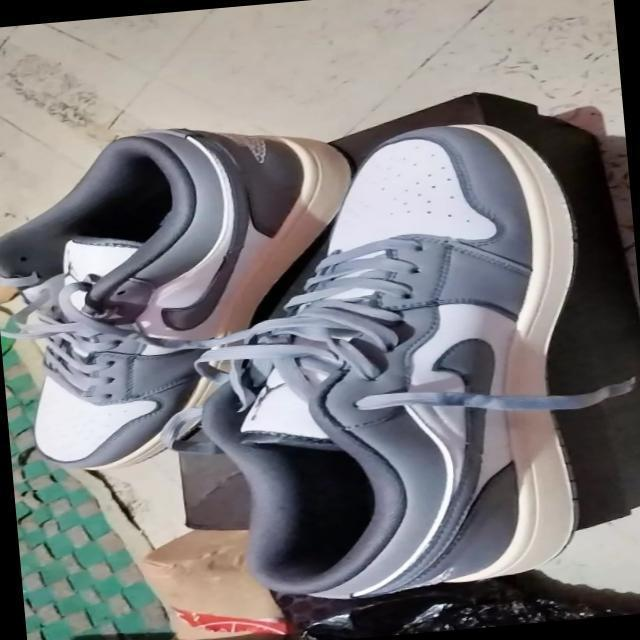nike fake jordan 1: (168, 100, 619, 614), (0, 106, 379, 482)
